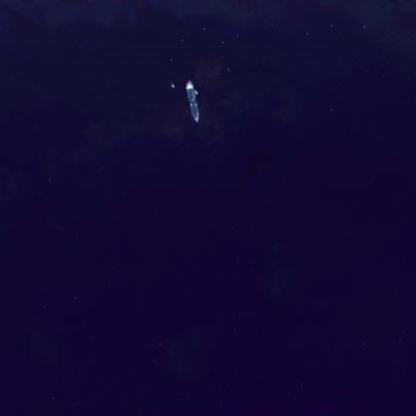ship: (184, 78, 200, 124)
